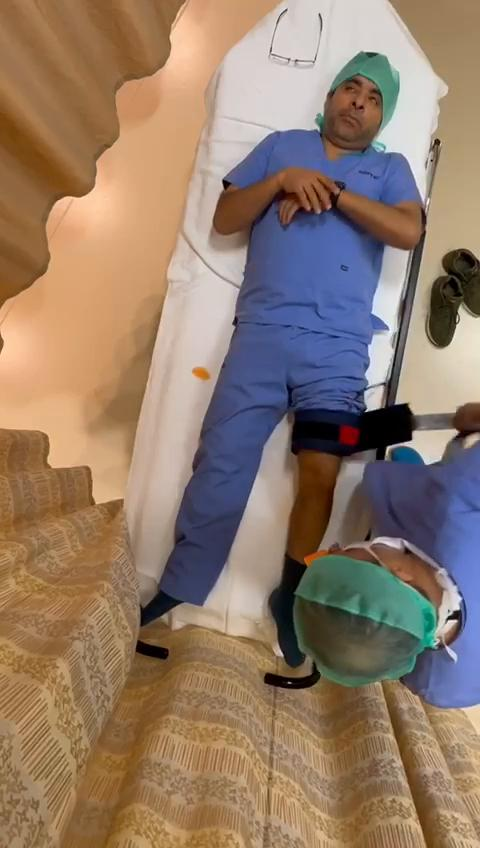patient: (144, 51, 422, 664)
tourniquet: (292, 404, 414, 455)
